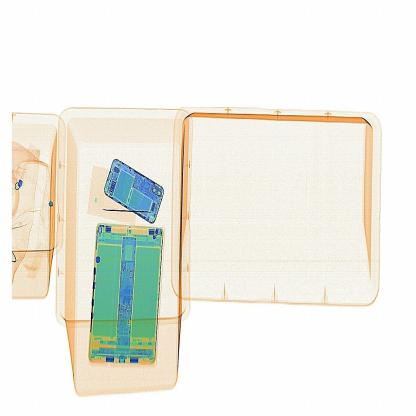wrench: (96, 201, 160, 219)
